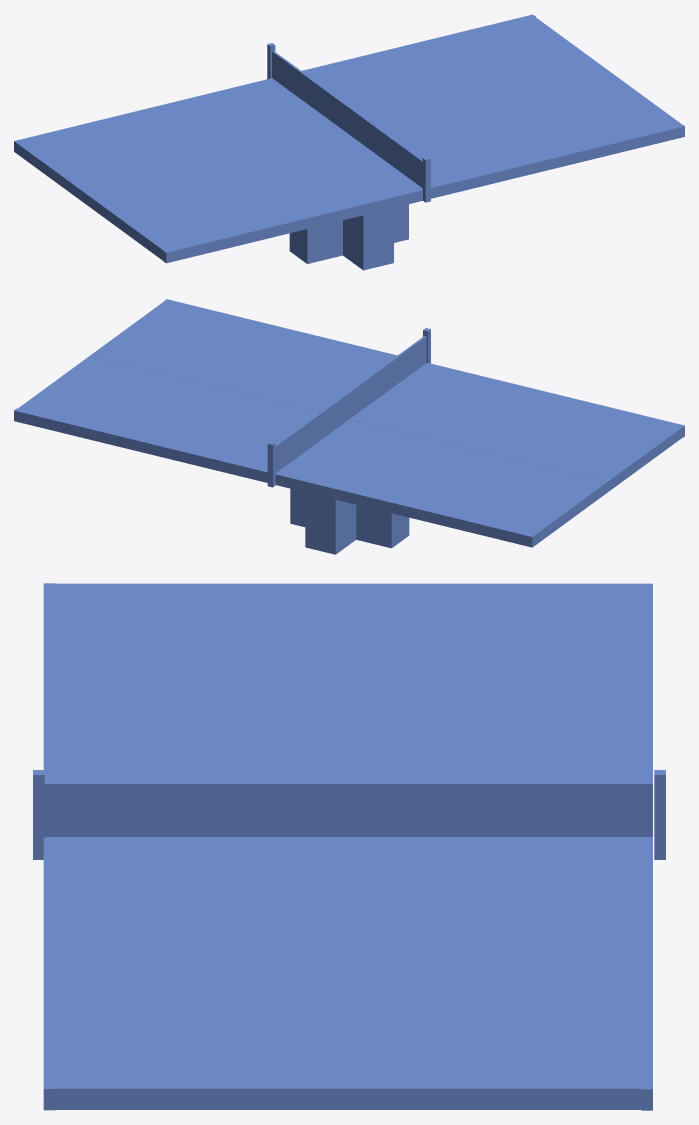
The model's file is Low_poly_-_Ping_pong_table_tennis_table.glb.
The picture shows the model from 3 angles, top to bottom: view 1: azimuth 30°, elevation 25°; view 2: azimuth 150°, elevation 25°; view 3: azimuth 270°, elevation 25°; orthographic projection. The views are drawn at different scales.
Parts seen in each view (by area): view 1: mergedBlocks__defaultMat(Clone)_0, mergedBlocks_custom3(Clone)_0, mergedBlocks_custom4(Clone)_0, mergedBlocks_custom5(Clone)_0; view 2: mergedBlocks__defaultMat(Clone)_0, mergedBlocks_custom3(Clone)_0, mergedBlocks_custom4(Clone)_0, mergedBlocks_custom5(Clone)_0; view 3: mergedBlocks__defaultMat(Clone)_0, mergedBlocks_custom3(Clone)_0, mergedBlocks_custom5(Clone)_0, mergedBlocks_custom4(Clone)_0.
Boxes of the visible parts, x1,y1,x2,y2 form: mergedBlocks__defaultMat(Clone)_0: [22, 18, 676, 249]; mergedBlocks_custom3(Clone)_0: [14, 14, 684, 263]; mergedBlocks_custom4(Clone)_0: [267, 43, 430, 270]; mergedBlocks_custom5(Clone)_0: [272, 51, 422, 187]; mergedBlocks__defaultMat(Clone)_0: [23, 302, 676, 533]; mergedBlocks_custom3(Clone)_0: [14, 299, 684, 547]; mergedBlocks_custom4(Clone)_0: [267, 328, 430, 554]; mergedBlocks_custom5(Clone)_0: [275, 336, 426, 472]; mergedBlocks__defaultMat(Clone)_0: [55, 588, 641, 1083]; mergedBlocks_custom3(Clone)_0: [43, 583, 652, 1110]; mergedBlocks_custom5(Clone)_0: [44, 782, 652, 836]; mergedBlocks_custom4(Clone)_0: [33, 770, 665, 859].
Bounding box in the file's own units: 5.11 × 1.35 × 2.7.
